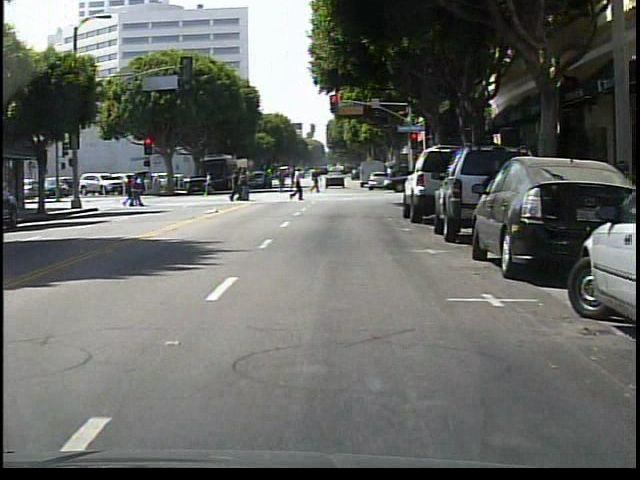person: (286, 165, 307, 204), (197, 167, 217, 197), (306, 167, 325, 196)
